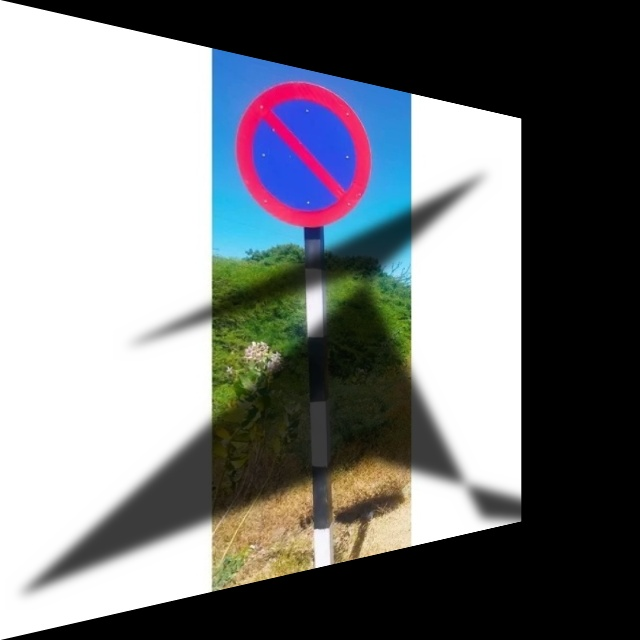No_Stopping_or_Standing: (243, 70, 365, 231)
